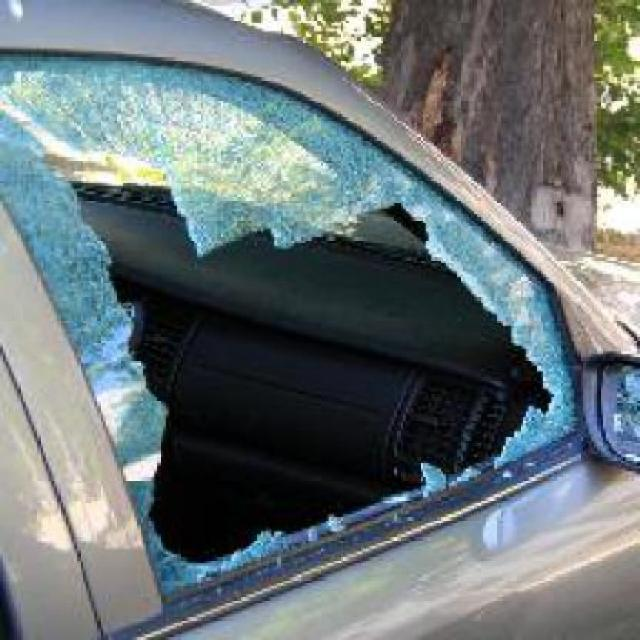damaged-window: (0, 34, 626, 586)
